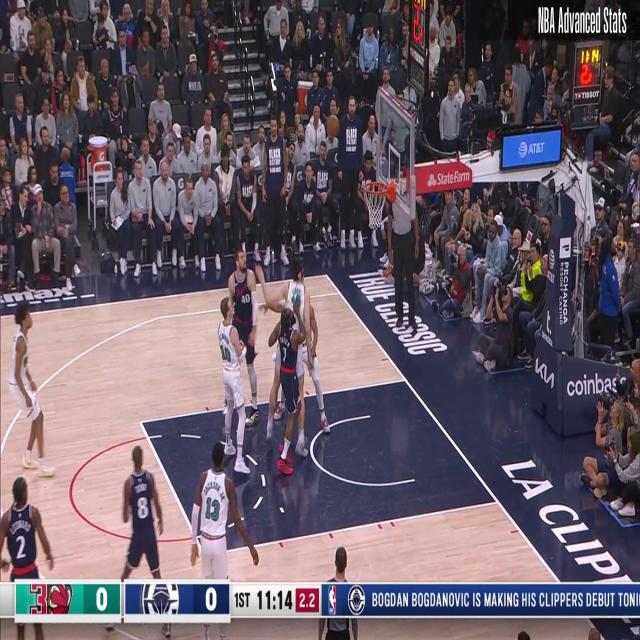ball: (326, 115, 339, 139)
judge: (387, 170, 417, 332), (319, 546, 356, 637)
player: (190, 442, 258, 630), (113, 444, 167, 633), (1, 478, 55, 636), (266, 261, 310, 452), (10, 301, 53, 475), (267, 299, 308, 476), (224, 243, 262, 428), (216, 297, 254, 477)
